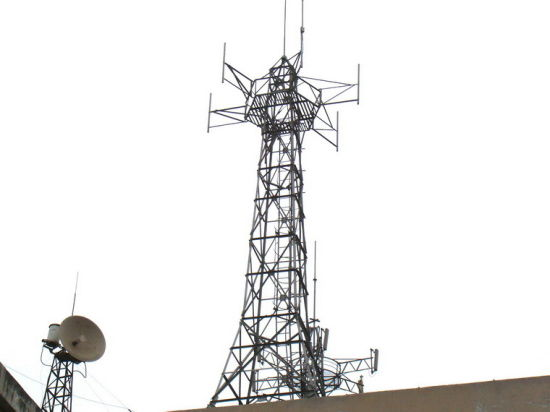a: (296, 1, 306, 69), (332, 107, 346, 154), (353, 60, 364, 107), (219, 39, 230, 84), (205, 91, 216, 135)
b: (56, 311, 110, 364)
